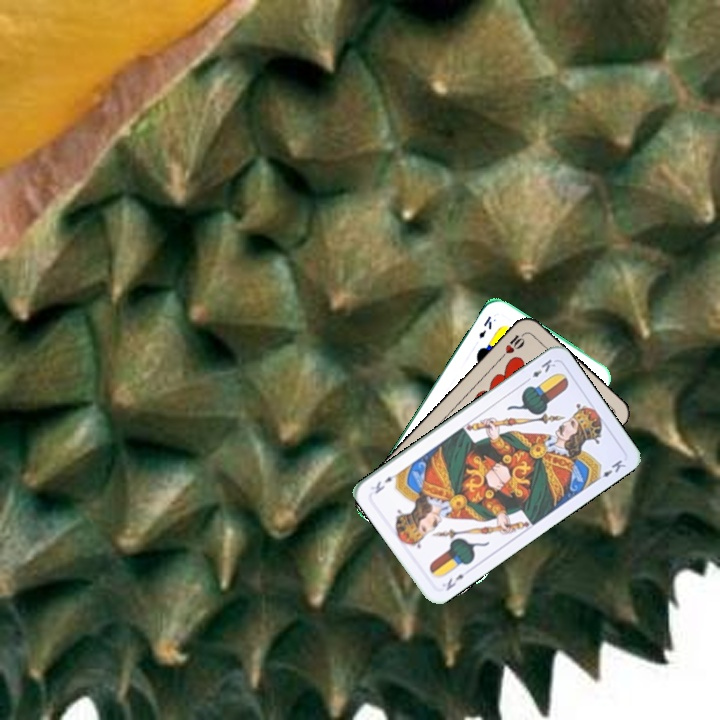EK: (521, 355, 558, 385), (438, 570, 467, 593), (475, 312, 494, 341)
H10: (496, 329, 528, 362)
